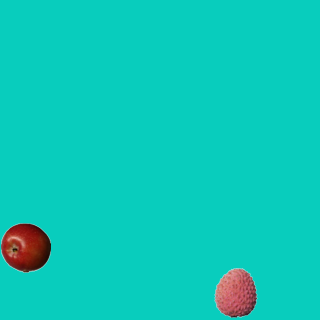Apple Braeburn: (0, 222, 50, 272)
Lychee: (210, 267, 260, 317)
